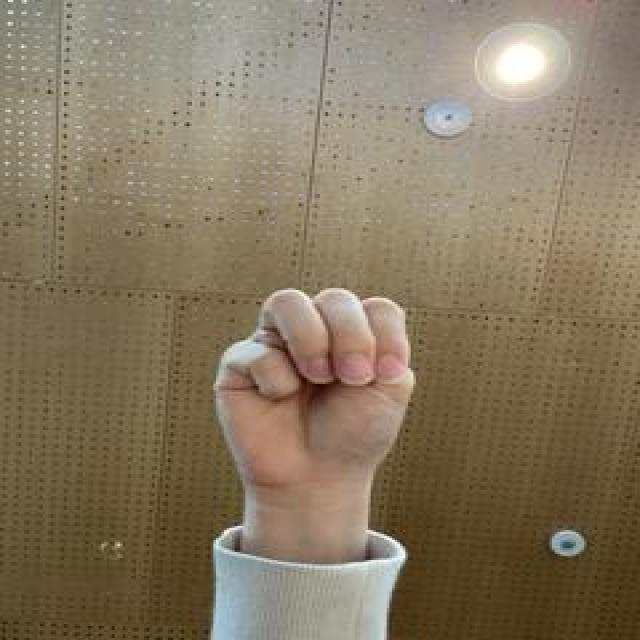M: (208, 281, 419, 493)
